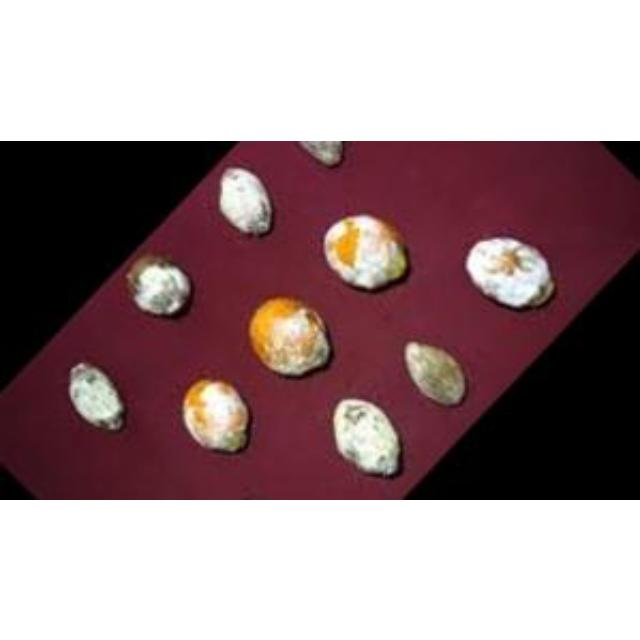damaged: (248, 294, 332, 380), (323, 215, 413, 292), (467, 236, 554, 313), (330, 401, 407, 478), (182, 380, 253, 455), (214, 166, 283, 243), (124, 253, 195, 320), (402, 341, 471, 408), (66, 360, 128, 433), (293, 140, 351, 168)
